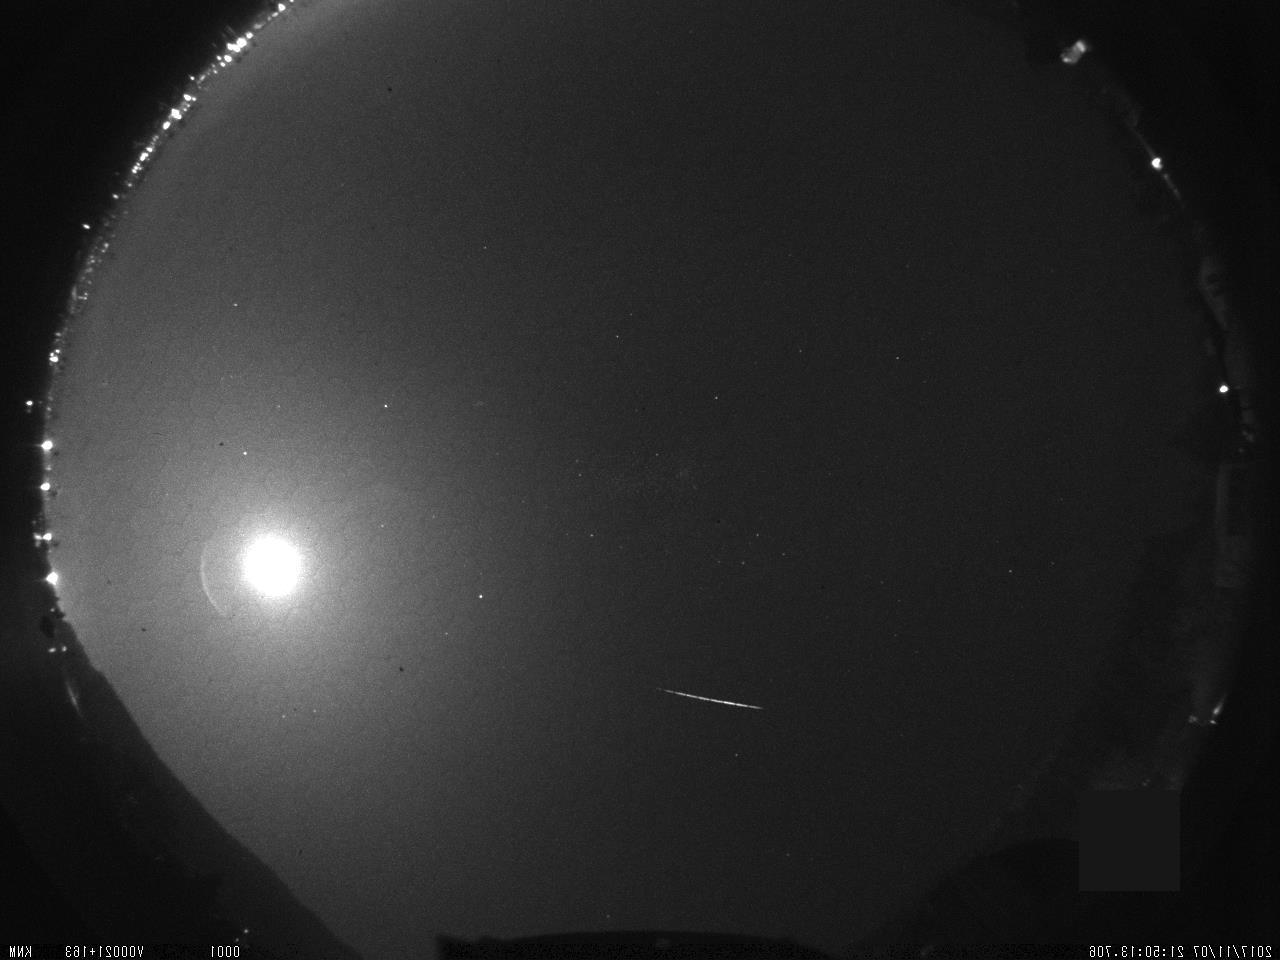meteor: (640, 674, 772, 724)
